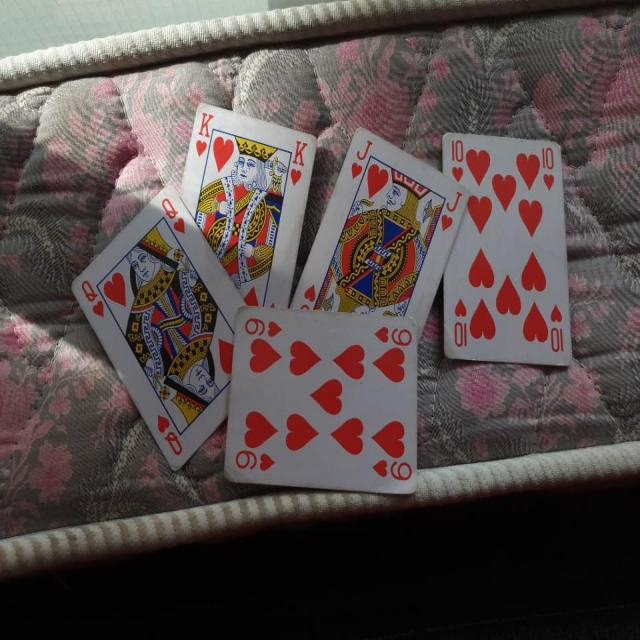10 Hearts: (432, 124, 576, 377)
9 Hearts: (222, 302, 423, 510)
J Hearts: (287, 121, 470, 364)
K Hearts: (178, 96, 318, 312)
Q Hearts: (66, 178, 254, 474)
